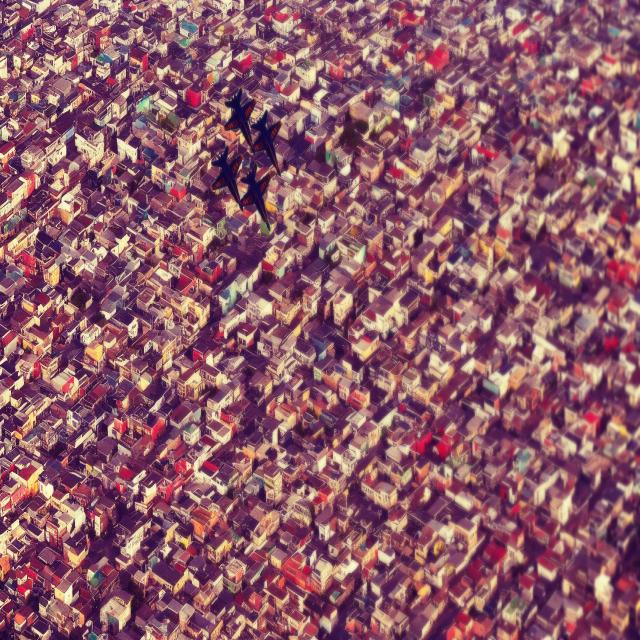airplane: (209, 146, 243, 210), (223, 88, 254, 150), (252, 109, 280, 174), (241, 166, 269, 230)
